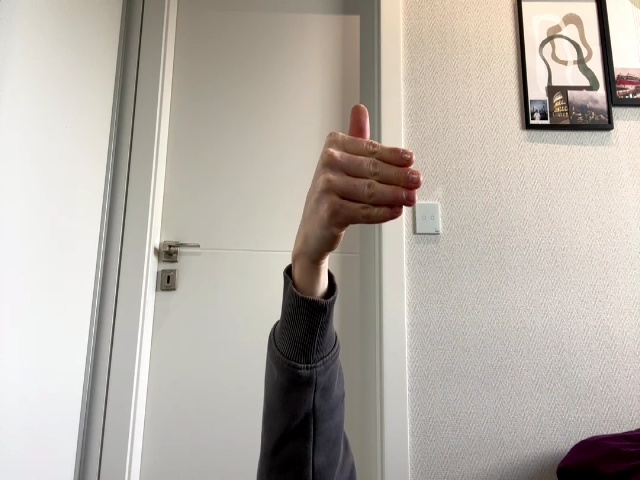M: (301, 106, 423, 243)
